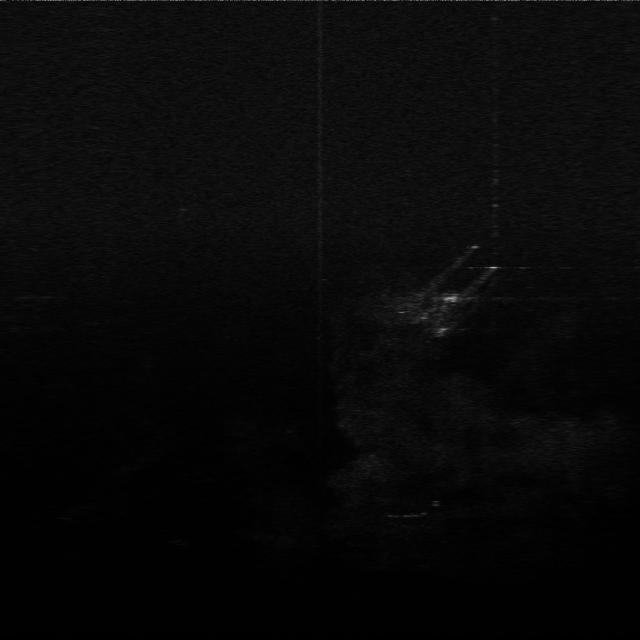rov: (436, 292, 468, 305)
